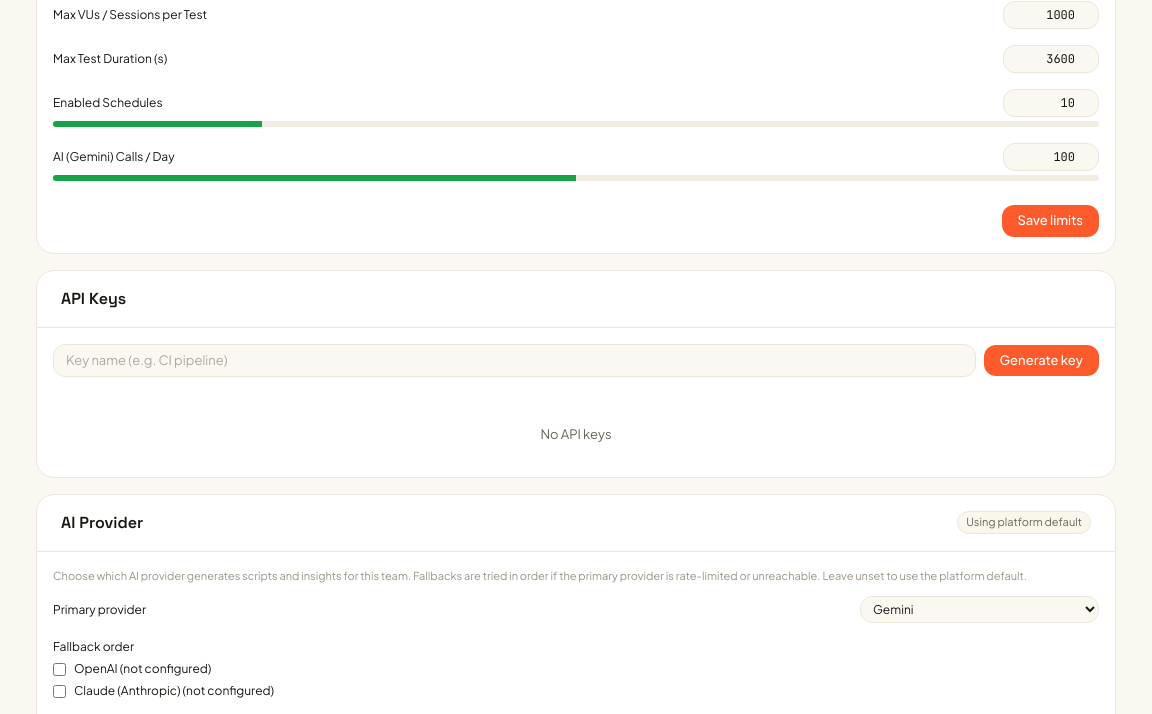
Test: TeamPage — API Keys › shows an error when generating a key fails without a name
The width and height of the screenshot is (1152, 714).
(page scrolled)
Click the button "Generate key". click: (1041, 360)
box: [984,344,1099,376]
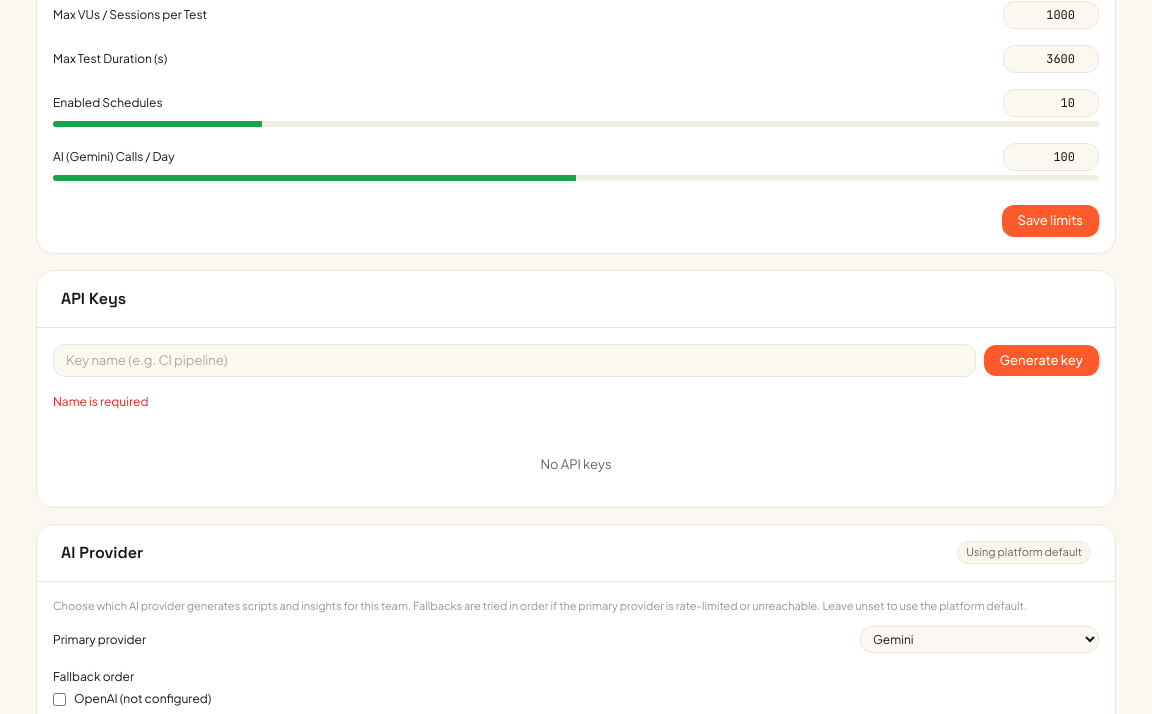
Check: the text "Name is required" is shown, box [53,394,148,409]
